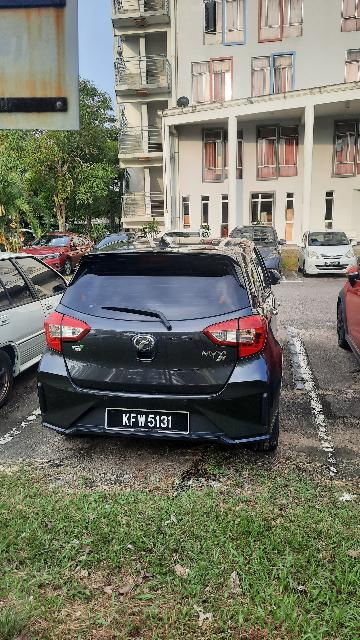License_Plate: (93, 401, 201, 447)
car: (36, 236, 287, 469), (2, 252, 71, 413), (230, 225, 292, 286), (300, 227, 360, 279), (330, 265, 360, 366), (25, 231, 89, 274), (97, 228, 146, 272), (155, 226, 209, 261)
